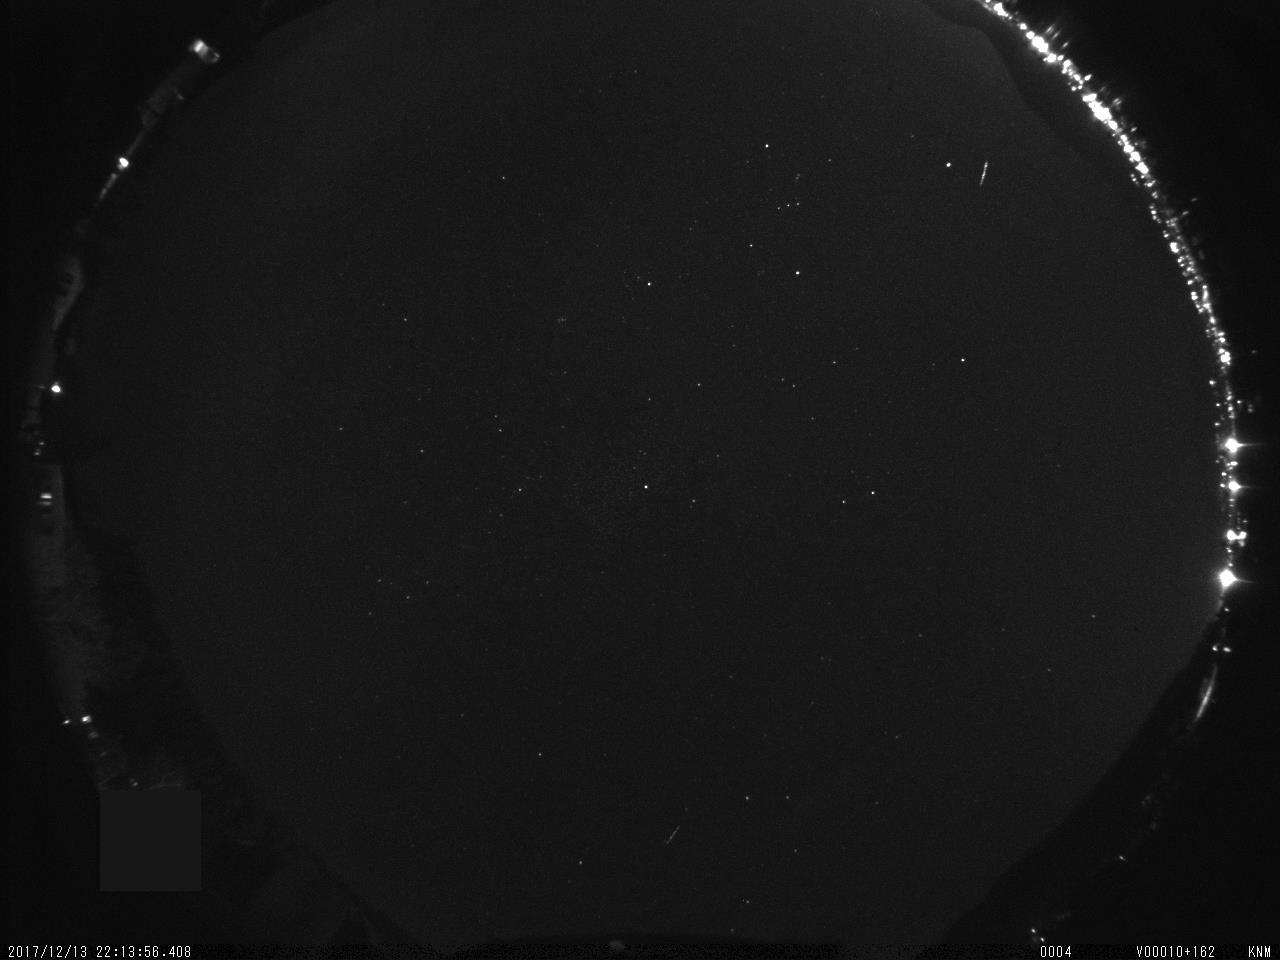meteor: (976, 153, 1000, 189)
